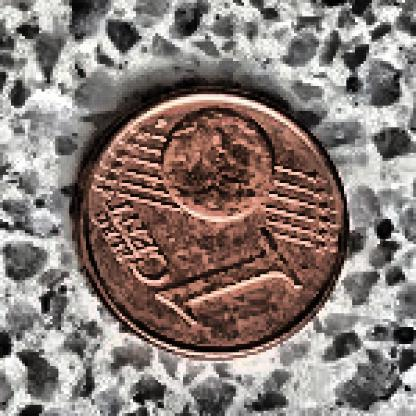coin: (72, 87, 356, 360)
